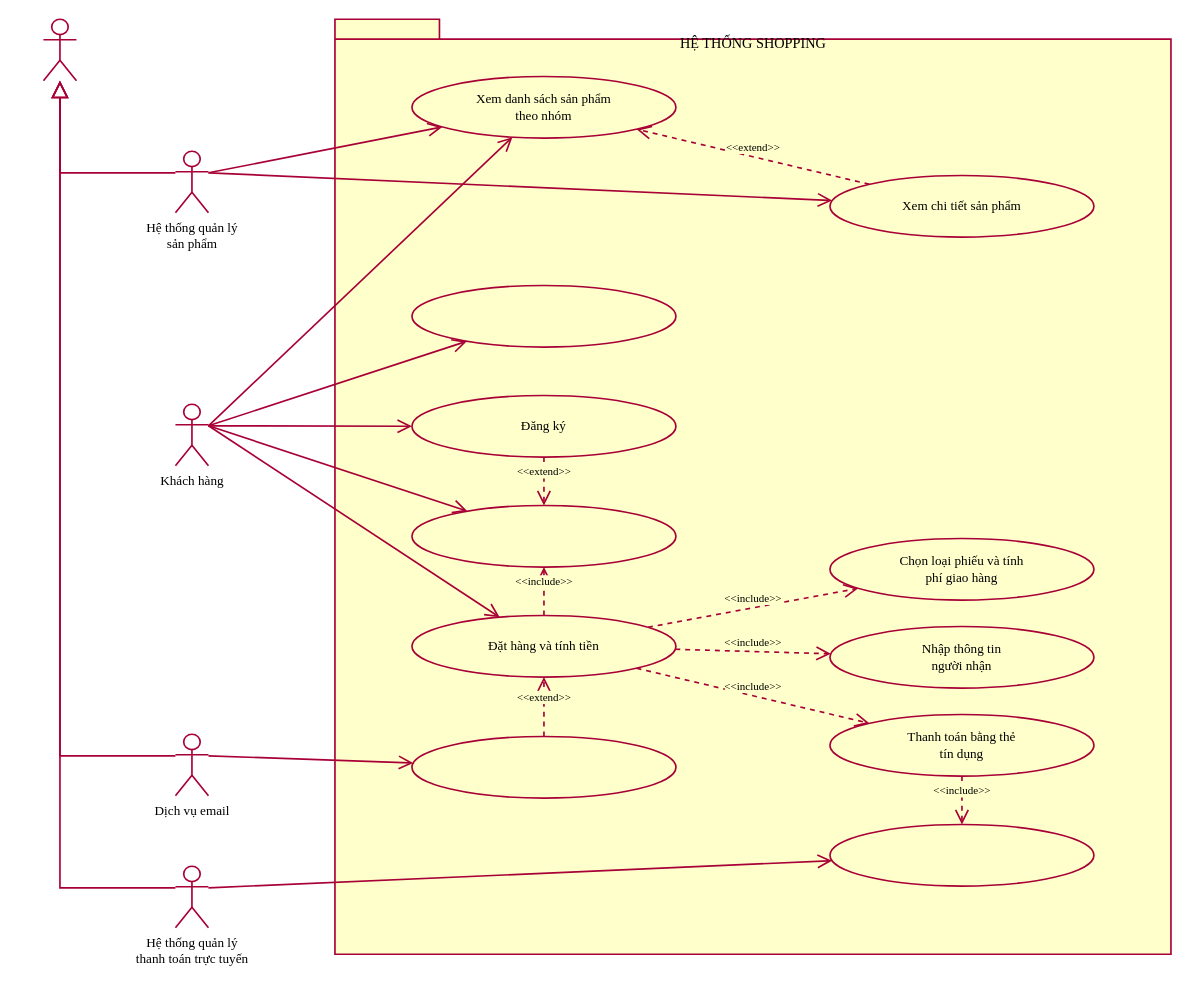
Image size: 1191x987. Some labels were removed from this diagram. The shapes that lost their labels are listed below. From the top down, each one's centre as x and y in pixels, then its label:
At [59,49]: "Hệ thống ngoài".
At [543,315]: "Quản lý giỏ hàng".
At [543,535]: "Đăng nhập".
At [543,766]: "Gửi email xác nhận".
At [961,854]: "Kiểm tra thẻ".
